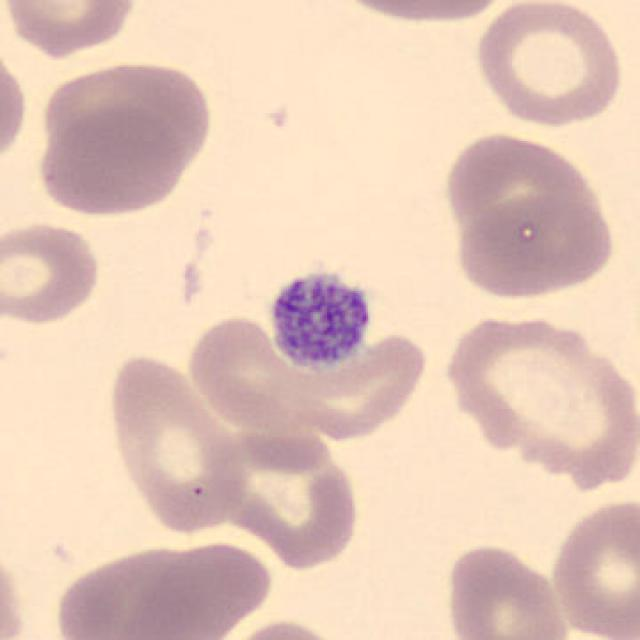Platelets: (265, 263, 375, 372)
RBC: (438, 309, 638, 490), (183, 305, 432, 448), (101, 347, 252, 538), (437, 128, 608, 272), (204, 425, 364, 573), (37, 56, 215, 171), (471, 0, 627, 130), (448, 187, 620, 303), (34, 102, 190, 219), (48, 541, 222, 640), (119, 537, 277, 640), (546, 493, 640, 640), (440, 539, 572, 640), (0, 217, 105, 328), (0, 0, 140, 58), (318, 0, 523, 28), (0, 42, 30, 171), (208, 615, 354, 640), (0, 534, 30, 640)
